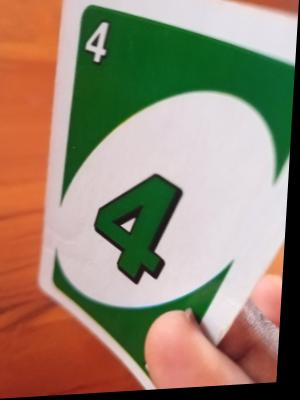green: (61, 4, 240, 340)
num_4: (79, 8, 122, 69)
